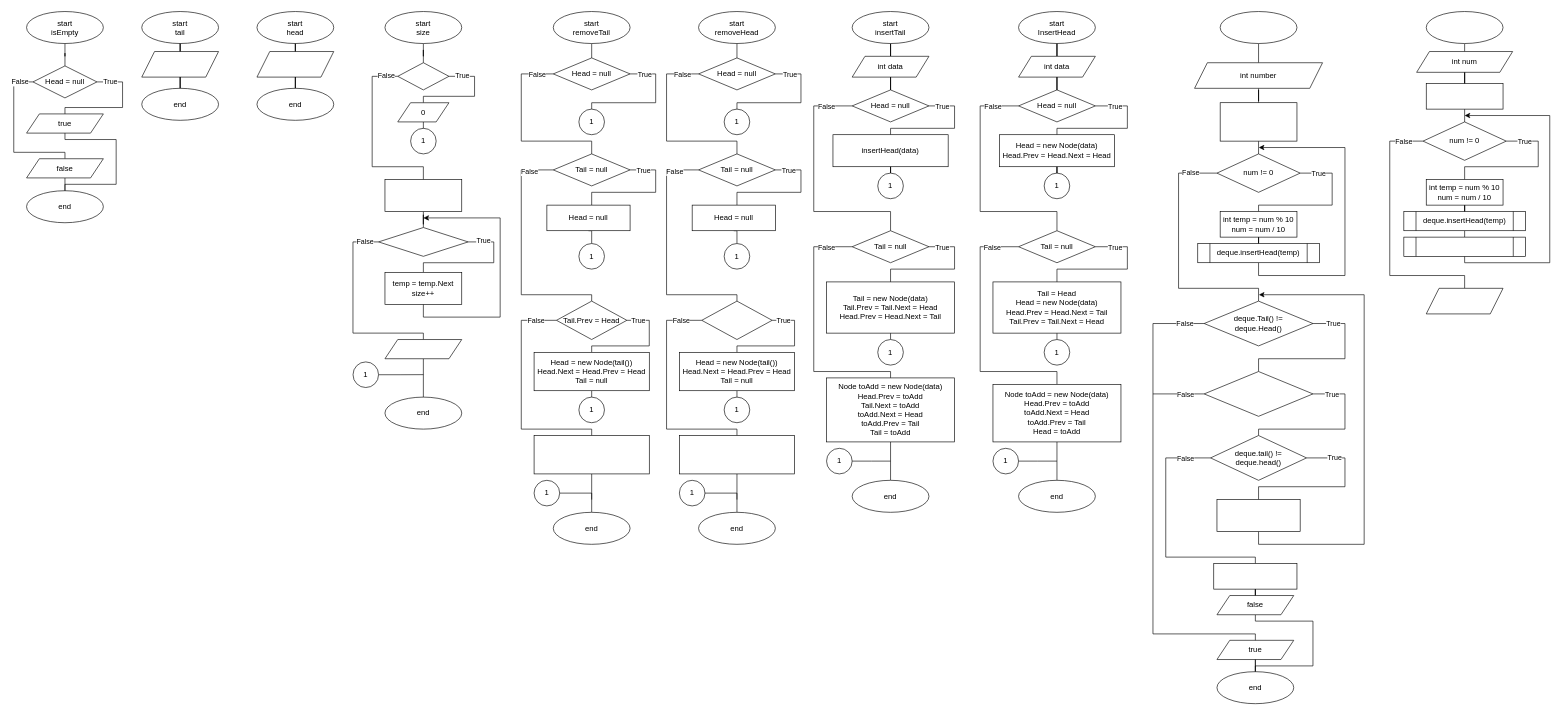
This 1566x715 diagram has some shape labels left out. Here are the shapes that lost their labels. From the top down, the box of each, then its label:
(1220, 11, 1297, 44): start CountPolyndrom
(1426, 11, 1503, 44): start MakePolynd
(141, 51, 219, 77): Tail.data
(256, 51, 334, 77): Head.data
(397, 62, 449, 90): isEmpty()
(1426, 83, 1503, 109): Deque deque
(1220, 102, 1297, 141): Deque deque int num = number
(384, 179, 462, 212): Node temp = Head int size = 1
(378, 227, 468, 256): temp != Head.Prev
(1403, 236, 1525, 256): deque.insertTail(temp)
(701, 300, 772, 340): Head.Next =Tail
(1426, 288, 1503, 314): return deque
(384, 339, 462, 359): size
(1204, 371, 1313, 416): deque.Tail != null
(533, 435, 649, 474): Tail.Next.Prev = Head Head.Prev= Tail.Prev Tail= Tail.Prev
(679, 435, 795, 474): Head.Next.Prev = Tail Tail.Next = Head.Next Head = Head.Next
(1216, 499, 1300, 532): deque.removeTail() deque.removeHead()
(1213, 563, 1297, 589): MakePolynd(number)
